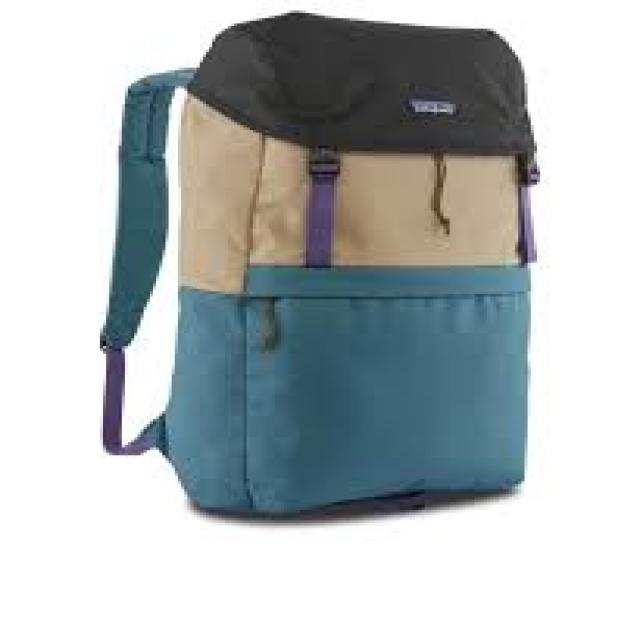backpack: (98, 9, 541, 519)
